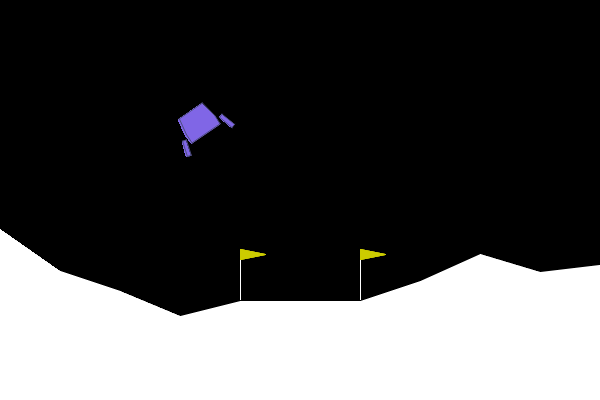lander: (164, 93, 237, 160)
